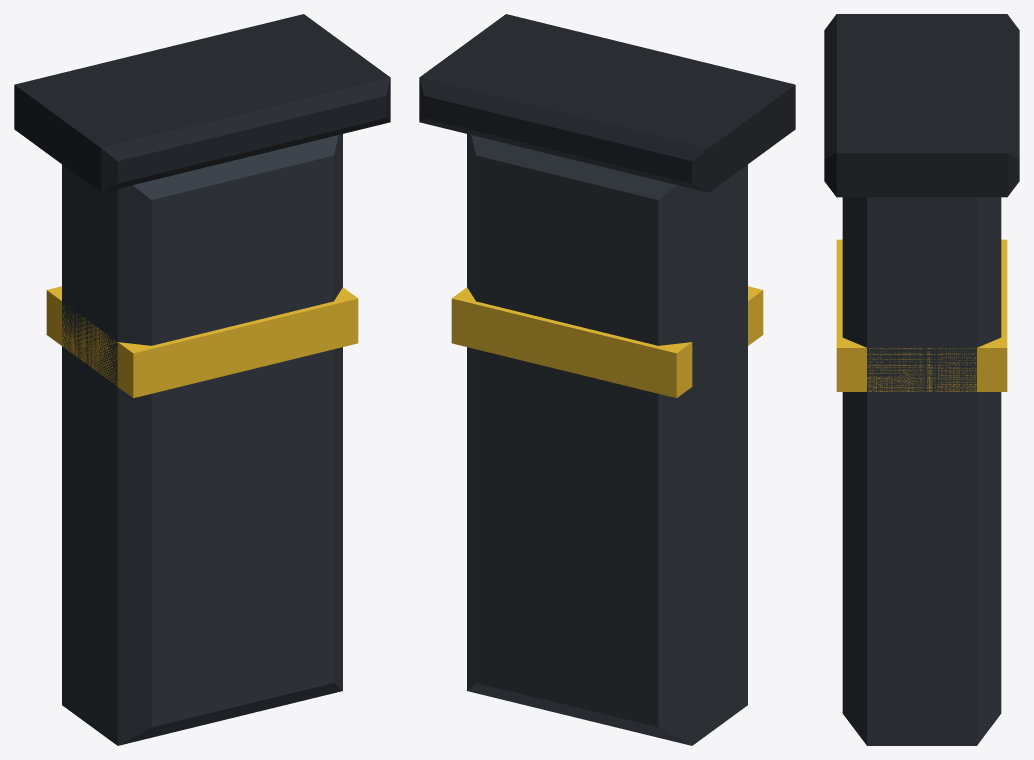
Rendered from hopper_stick_mag.glb.
The picture shows the model from 3 angles, left to right: view 1: azimuth 30°, elevation 25°; view 2: azimuth 150°, elevation 25°; view 3: azimuth 270°, elevation 25°; orthographic projection.
Visible parts, largest first — view 1: hopper_stick_mag; view 2: hopper_stick_mag; view 3: hopper_stick_mag.
Part boxes in pixels (x1,y1,x2,y2): hopper_stick_mag: (14,14,390,745); hopper_stick_mag: (419,14,795,745); hopper_stick_mag: (824,14,1019,745).
Bounding box in the file's own units: 0.054 × 0.11 × 0.032.
